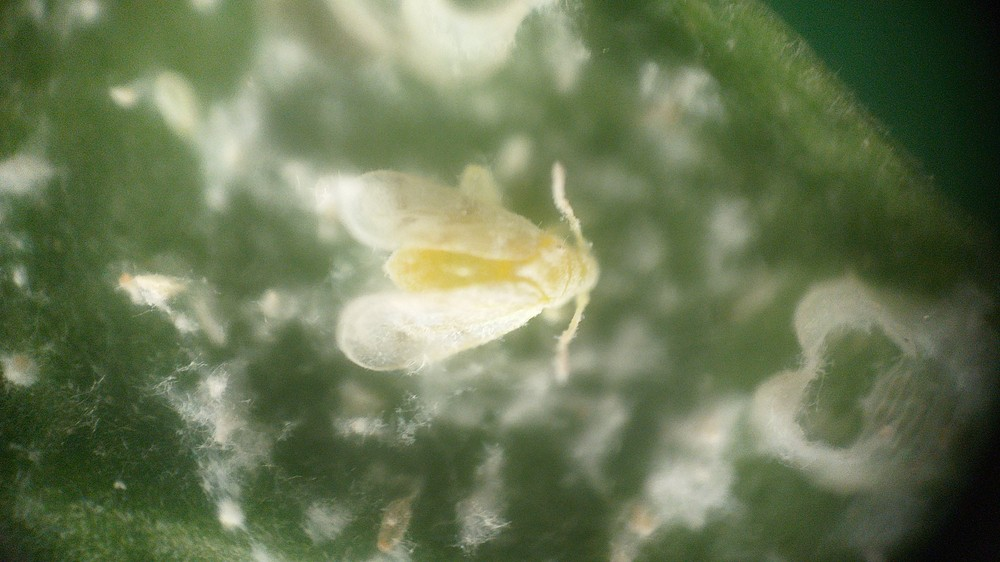Mosca Blanca: (308, 133, 615, 397)
